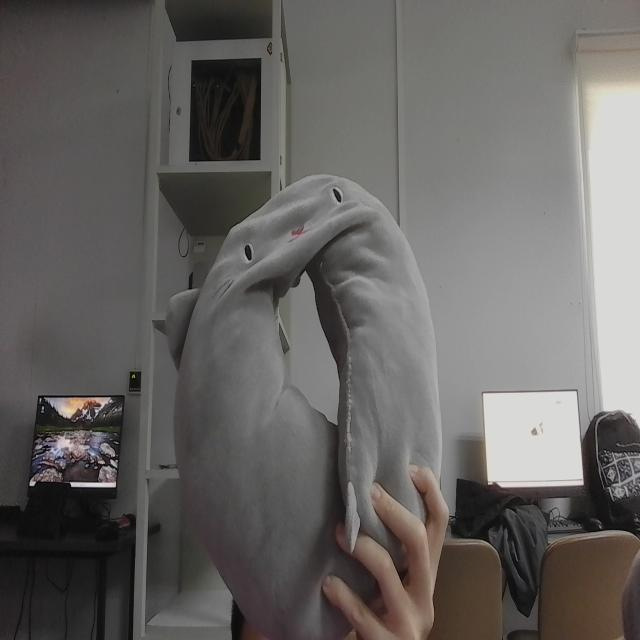pillow: (162, 166, 446, 640)
